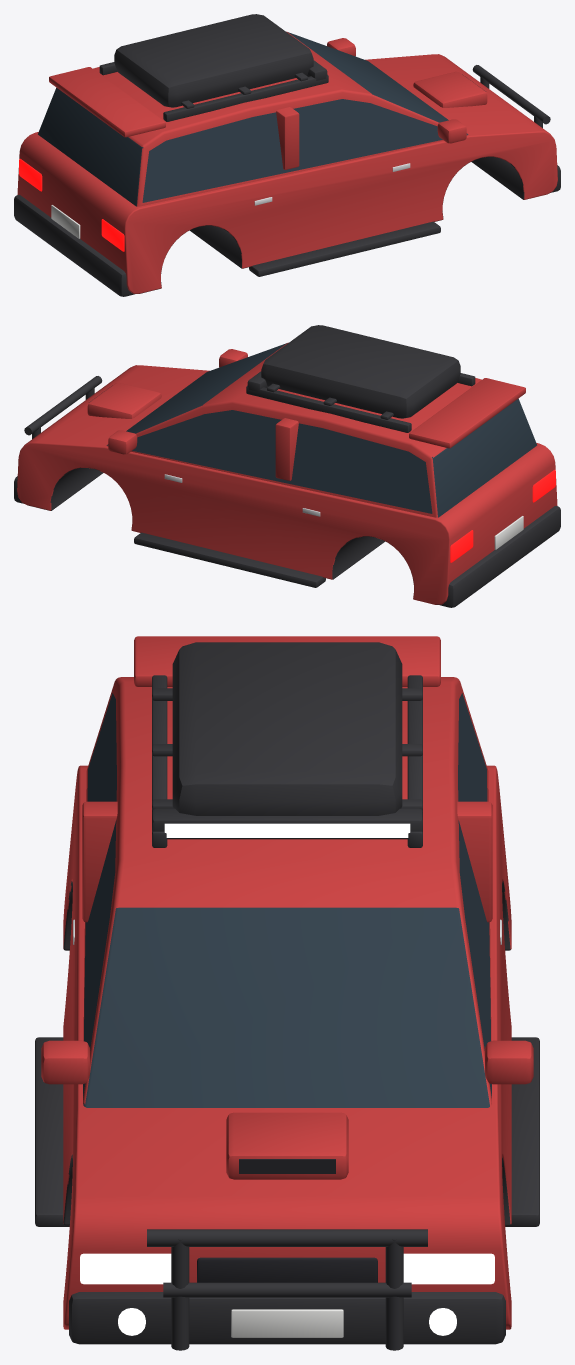
Rendered from hatch_compacto.glb.
3 views of the same model, one above another, from view 1: azimuth 30°, elevation 25°; view 2: azimuth 150°, elevation 25°; view 3: azimuth 270°, elevation 25° (orthographic). The views are drawn at different scales.
Parts seen in each view (by area): view 1: carroceria, cabine, bagageiro, asa, parachoque_t, estribo, tomada, rack_trilho, coluna0, qm_barra, retrovisor-1, placa_t (+2 smaller); view 2: carroceria, cabine, bagageiro, asa, parachoque_t, estribo.001, tomada, rack_trilho.001, coluna0, qm_barra, retrovisor1, placa_t (+2 smaller); view 3: cabine, carroceria, bagageiro, parachoque_d, tomada, coluna0, asa, qm_barra, grade, estribo, estribo.001, qm_barra2 (+12 smaller).
Part boxes in pixels (x1,y1,x2,y2): carroceria: (17, 54, 557, 293); cabine: (38, 31, 468, 206); bagageiro: (114, 14, 313, 107); asa: (49, 67, 165, 137); parachoque_t: (14, 195, 134, 296); estribo: (249, 221, 440, 276); tomada: (413, 71, 487, 107); rack_trilho: (163, 74, 328, 121); coluna0: (276, 107, 299, 169); qm_barra: (472, 65, 550, 124); retrovisor-1: (437, 119, 466, 143); placa_t: (51, 205, 80, 238); carroceria: (17, 365, 557, 604); cabine: (106, 342, 536, 517); bagageiro: (261, 325, 460, 418); asa: (409, 378, 525, 448); parachoque_t: (440, 506, 560, 607); estribo.001: (134, 532, 325, 587); tomada: (87, 382, 161, 418); rack_trilho.001: (246, 385, 411, 432); coluna0: (275, 418, 298, 480); qm_barra: (24, 376, 102, 435); retrovisor1: (108, 430, 137, 454); placa_t: (494, 516, 523, 549); cabine: (83, 677, 491, 1107); carroceria: (63, 765, 511, 1329); bagageiro: (172, 642, 402, 815); parachoque_d: (69, 1292, 505, 1344); tomada: (226, 1112, 348, 1179); coluna0: (82, 801, 492, 922); asa: (134, 636, 440, 686); qm_barra: (147, 1229, 427, 1246); grade: (197, 1257, 377, 1282); estribo: (35, 1037, 69, 1226); estribo.001: (505, 1037, 539, 1226); qm_barra2: (163, 1282, 411, 1297).
Bounding box in the file's own units: 4.09 × 1.56 × 1.98.
